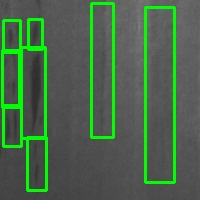inclusion: (145, 7, 174, 182), (91, 3, 113, 137), (21, 47, 45, 138), (27, 137, 46, 190), (2, 50, 19, 107), (3, 105, 21, 146), (3, 20, 20, 52), (28, 19, 42, 49)
